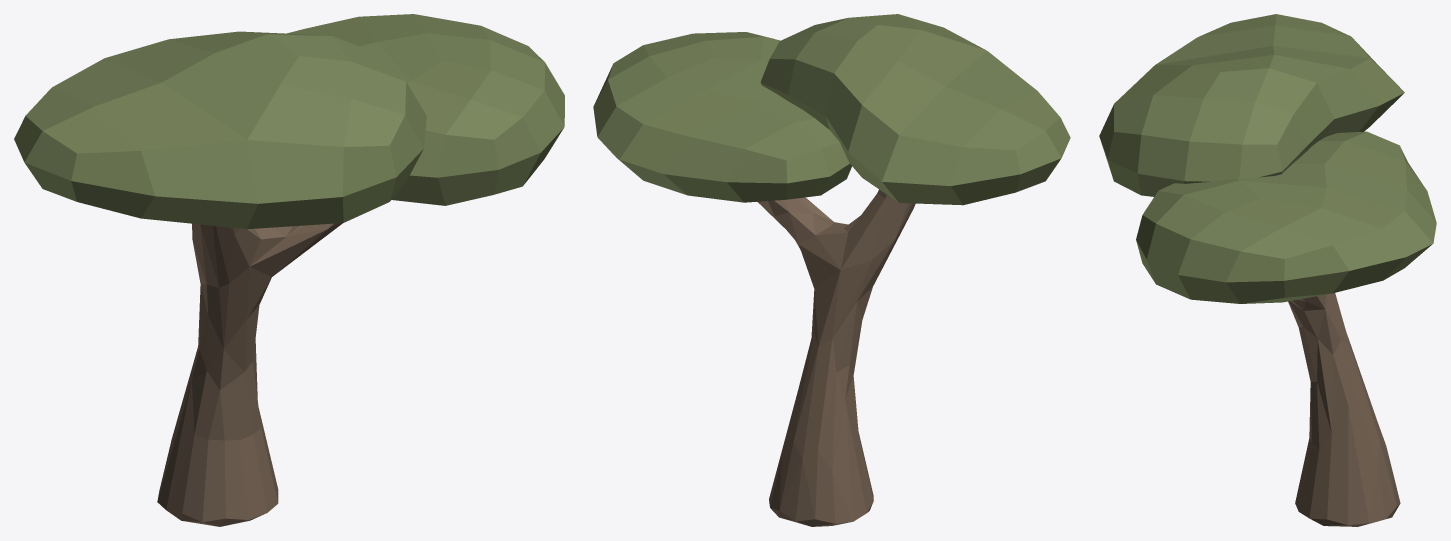
File: tree-2.fbx
3 renders of one model, left to right at view 1: azimuth 30°, elevation 25°; view 2: azimuth 150°, elevation 25°; view 3: azimuth 270°, elevation 25°, orthographic. The views are drawn at different scales.
Visible parts, largest first — view 1: Cube.002, Cube.003, Cube; view 2: Cube.002, Cube.003, Cube; view 3: Cube.003, Cube.002, Cube.
Part boxes in pixels (bbox=[...]): Cube.002: bbox=[14, 31, 426, 229]; Cube.003: bbox=[286, 14, 564, 205]; Cube: bbox=[157, 223, 342, 526]; Cube.002: bbox=[760, 14, 1070, 205]; Cube.003: bbox=[593, 32, 851, 202]; Cube: bbox=[757, 189, 915, 526]; Cube.003: bbox=[1136, 131, 1436, 303]; Cube.002: bbox=[1099, 14, 1404, 196]; Cube: bbox=[1288, 293, 1400, 526].
Size of the model in its own units: 2086 by 1940 by 1340.
